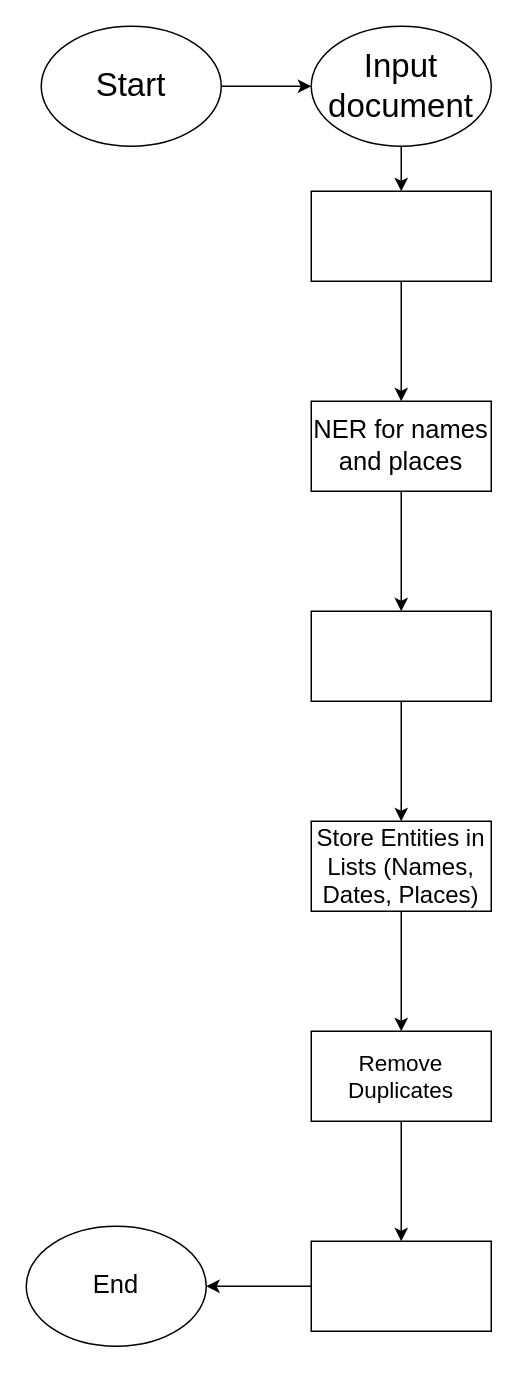
Some shapes in this 518 by 1373 pixel diagram are drawn without their labels. The box of each missing label's shape, as (x1, y1, x2, y2) in pixels:
Date extraction with regex: (310, 610, 491, 701)
Return Dictionary (Names, Dates, Places): (310, 1240, 491, 1331)
Tokenization: (310, 190, 491, 281)
